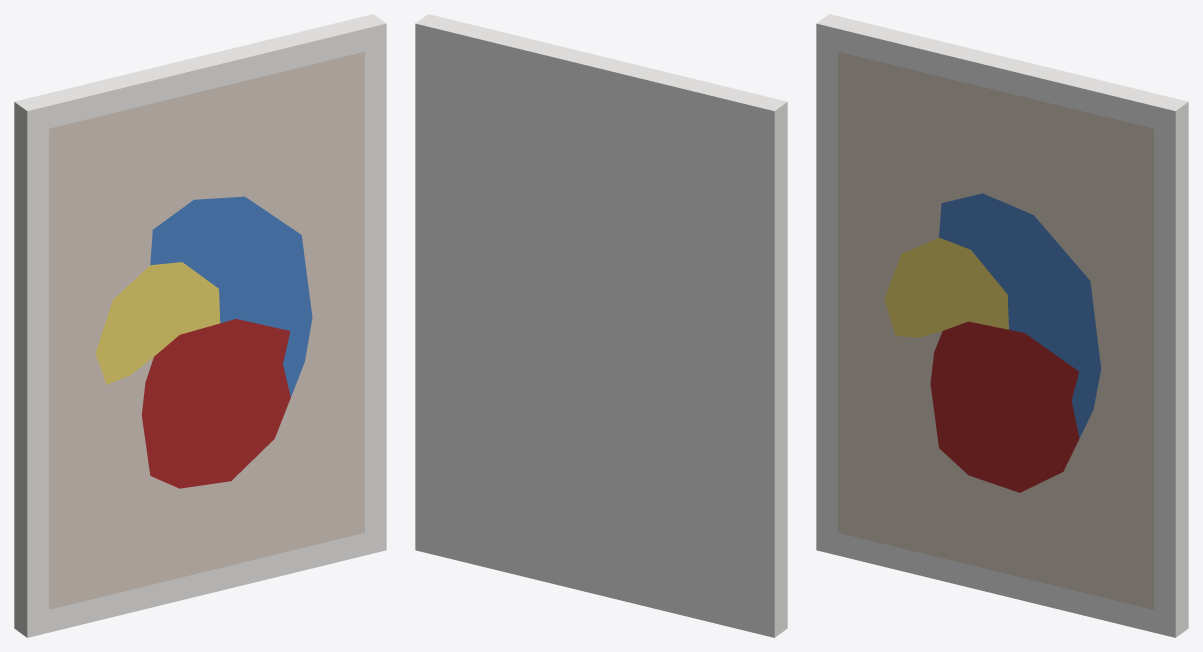
File: Picture_3.glb
The picture shows the model from 3 angles, left to right: view 1: azimuth 30°, elevation 25°; view 2: azimuth 150°, elevation 25°; view 3: azimuth 330°, elevation 25°; orthographic projection.
Visible parts, largest first — view 1: Picture_3; view 2: Picture_3; view 3: Picture_3.
Boxes of the visible parts, left/top/right/bottom form: Picture_3: left=14, top=14, right=386, bottom=637; Picture_3: left=415, top=14, right=787, bottom=637; Picture_3: left=816, top=14, right=1188, bottom=637.
Bounding box in the file's own units: 0.4139 × 0.5797 × 0.0263.
1 material, 1 textured.
